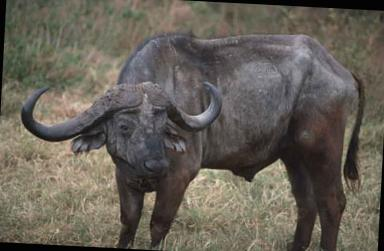Buffalo: (0, 3, 384, 251)
